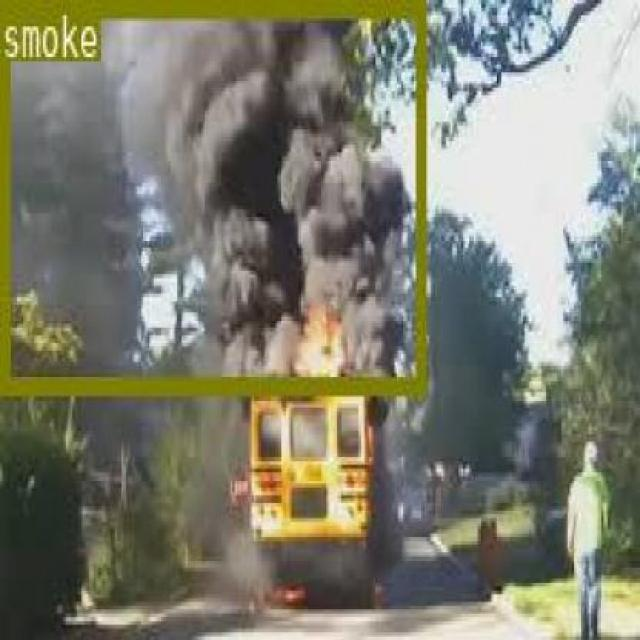Smoke: (0, 0, 425, 389)
